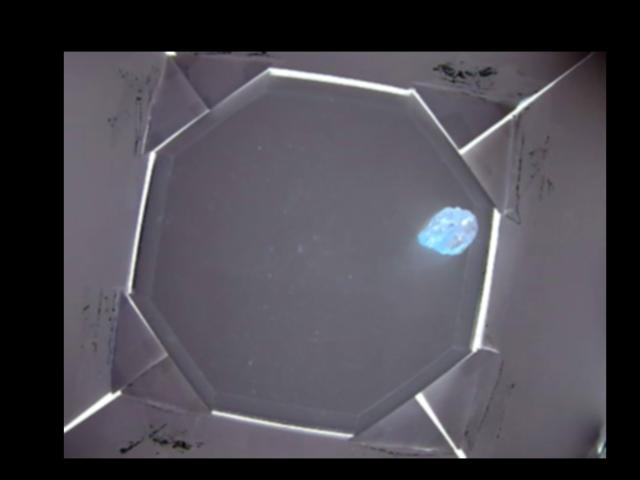Brisk: (420, 205, 474, 257)
